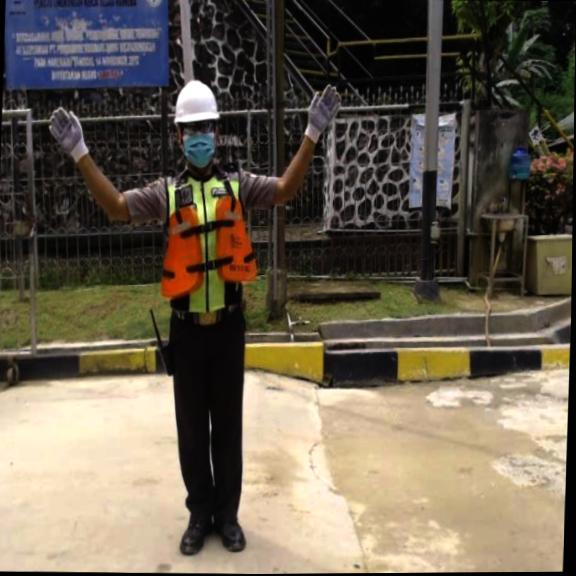safety_vest: (155, 192, 261, 299)
